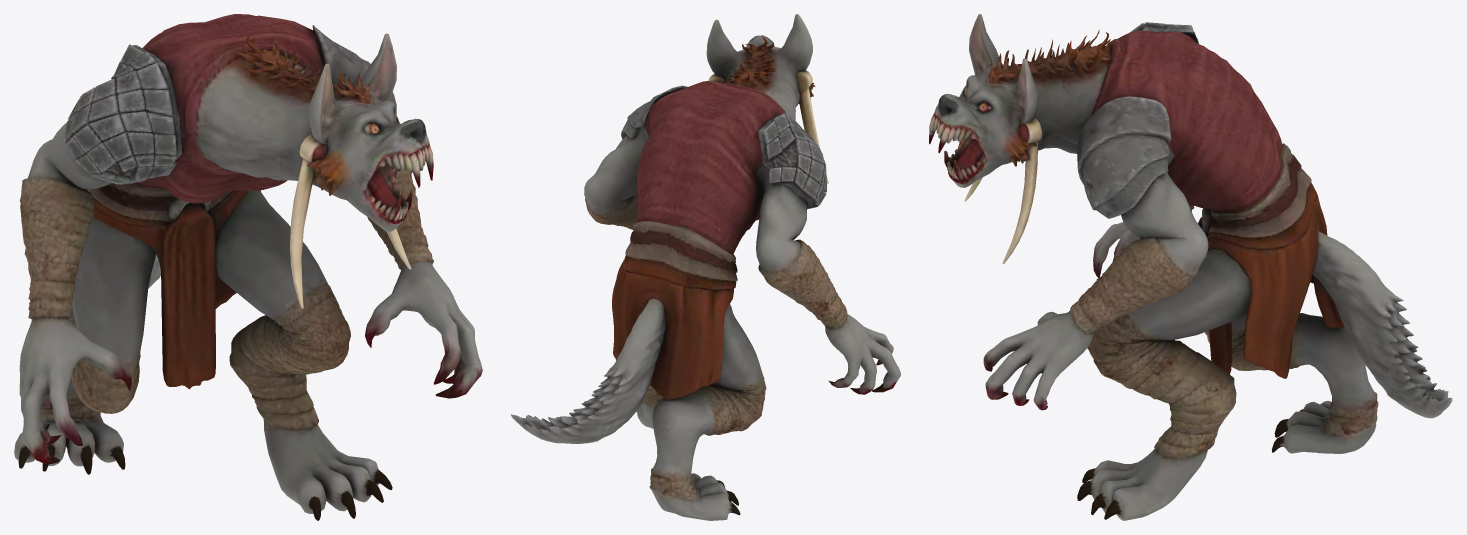
File: MZ4250 - Gnoll Vampire.glb
The picture shows the model from 3 angles, left to right: view 1: azimuth 30°, elevation 25°; view 2: azimuth 150°, elevation 25°; view 3: azimuth 270°, elevation 25°; orthographic projection. The views are drawn at different scales.
Visible parts, largest first — view 1: Body.002; view 2: Body.002; view 3: Body.002.
Part boxes in pixels (left/top/right/bottom): Body.002: left=14, top=14, right=482, bottom=520; Body.002: left=511, top=14, right=900, bottom=520; Body.002: left=929, top=14, right=1452, bottom=520.
Size of the model in its own units: 73.01 by 89.64 by 93.44.
Materials: 1 (1 with a texture image).
